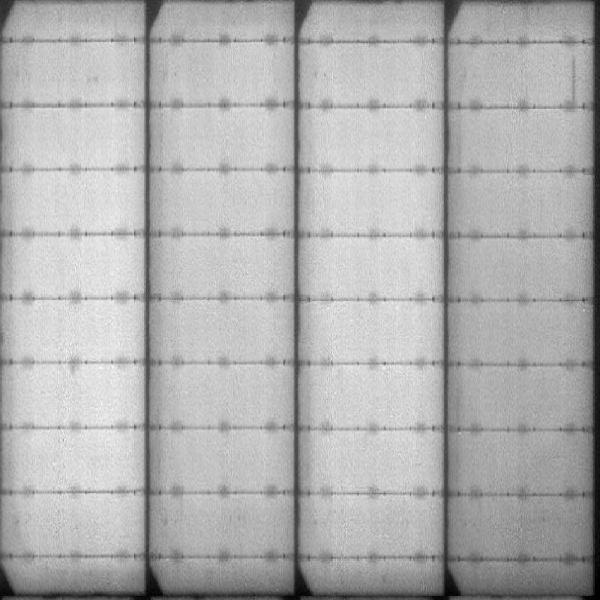scratch: (570, 58, 578, 104)
